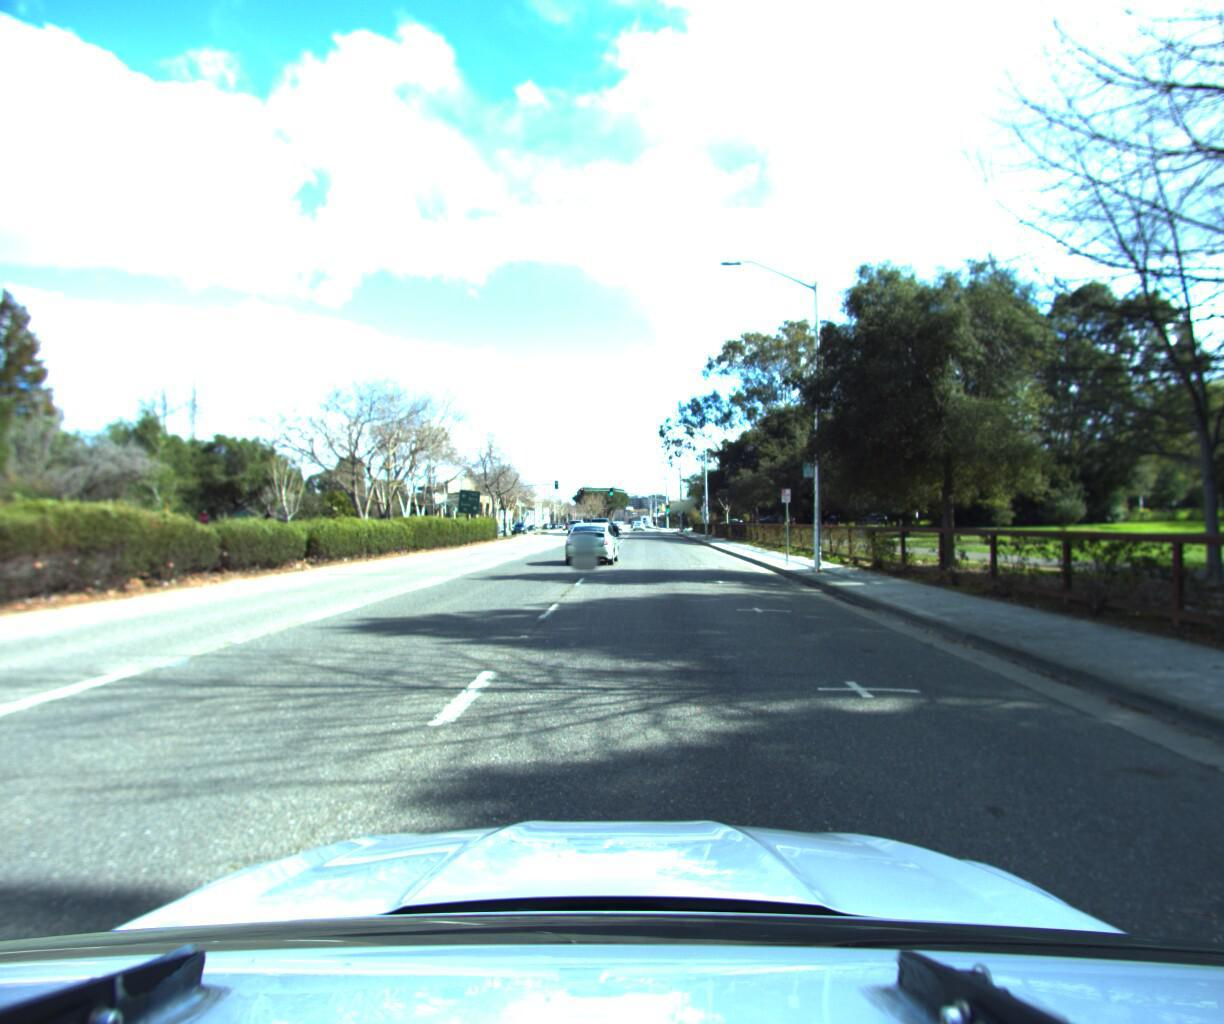car: (560, 517, 620, 565), (569, 517, 589, 535)
